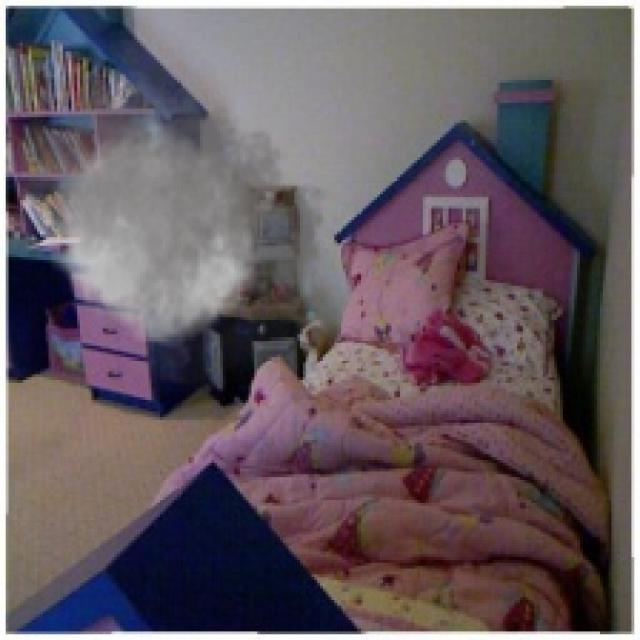smoke: (3, 57, 351, 406)
